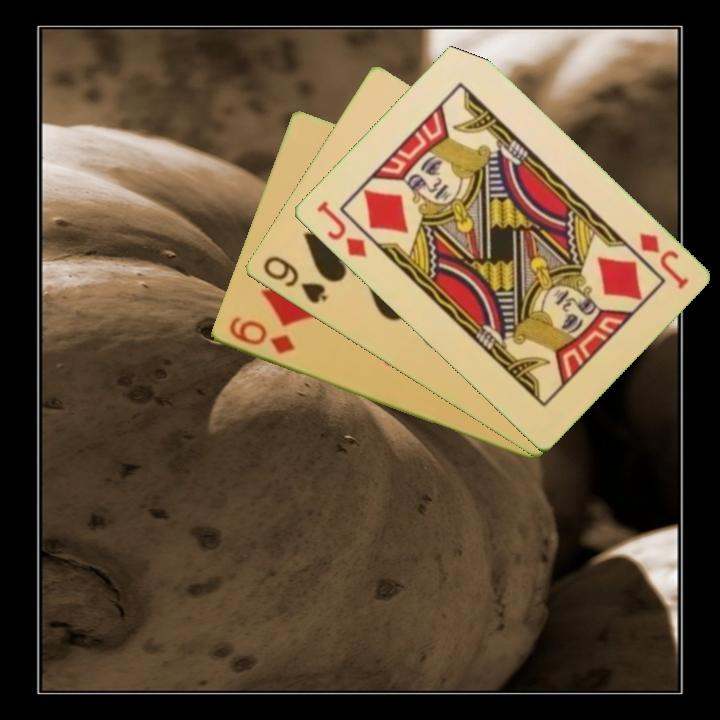6d: (225, 313, 297, 358)
9s: (259, 252, 330, 307)
Jd: (312, 197, 369, 261), (634, 229, 691, 293)
